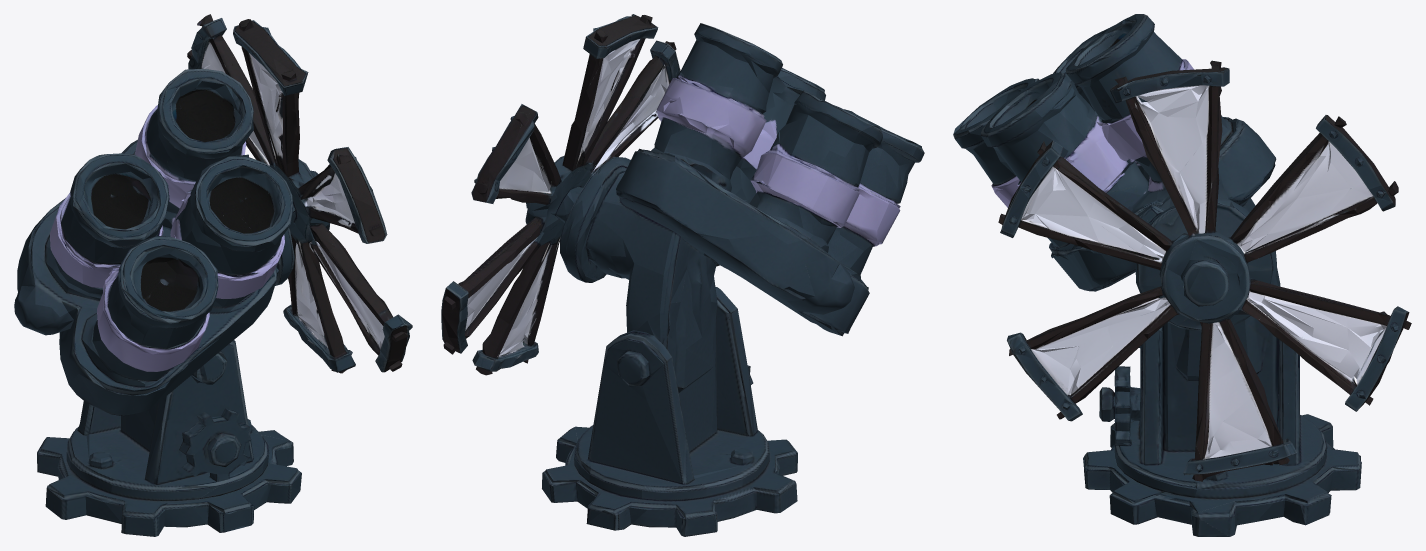
File: hailstorm.glb
3 renders of one model, left to right at view 1: azimuth 30°, elevation 25°; view 2: azimuth 150°, elevation 25°; view 3: azimuth 270°, elevation 25°, orthographic. The views are drawn at different scales.
Bounding box in the file's own units: 1.52 × 1.9 × 1.72.
1 material, 1 textured.
